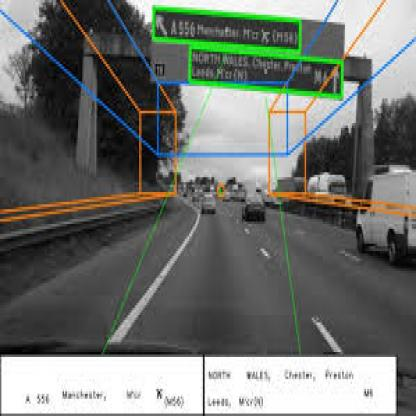car: (352, 152, 416, 285), (238, 186, 268, 228), (202, 182, 219, 223), (218, 189, 233, 206)
